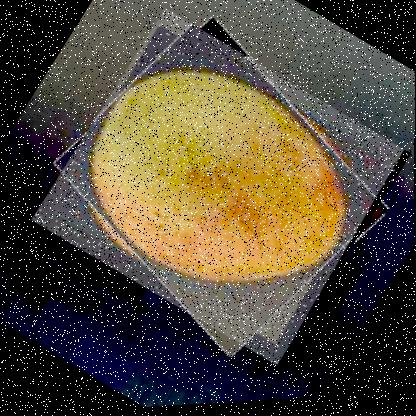mango: (31, 0, 413, 379)
